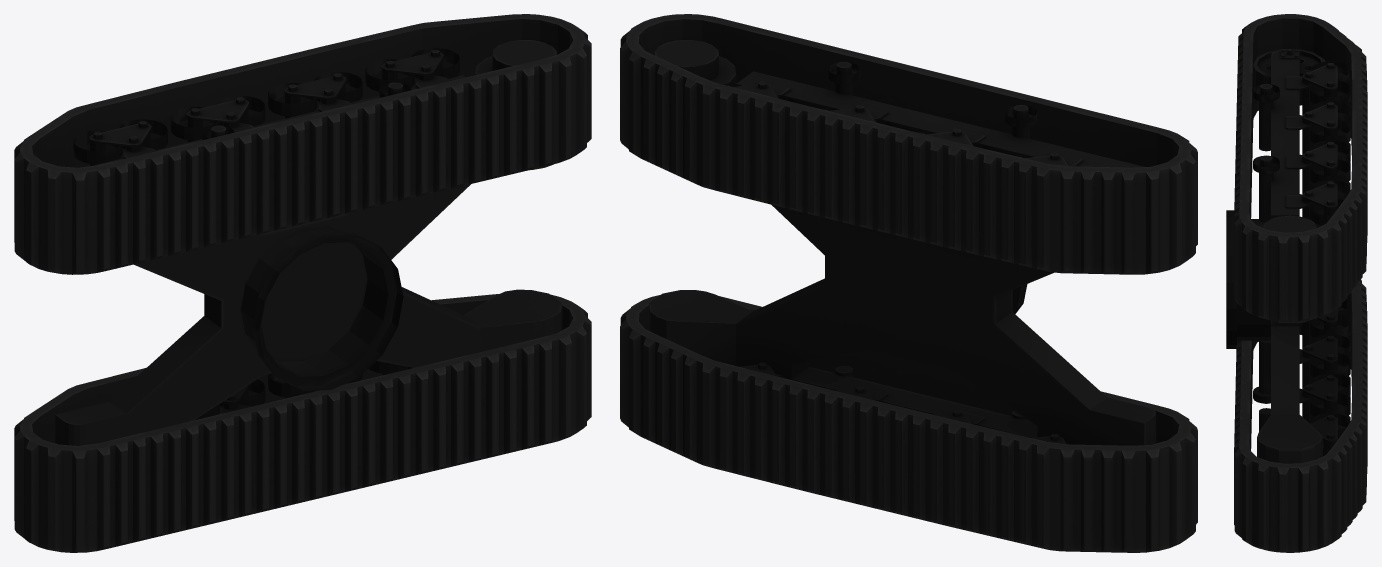
The model's file is mst110cr-crawler.dae.
The picture shows the model from 3 angles, left to right: view 1: azimuth 30°, elevation 25°; view 2: azimuth 150°, elevation 25°; view 3: azimuth 270°, elevation 25°; orthographic projection. The views are drawn at different scales.
Parts seen in each view (by area): view 1: node; view 2: node; view 3: node.
Boxes of the visible parts, x1=… form: node: x1=14, y1=14, x2=591, y2=552; node: x1=620, y1=14, x2=1197, y2=552; node: x1=1226, y1=14, x2=1367, y2=552.
Bounding box in the file's own units: 4.6 × 2.98 × 1.21.
2 materials, 2 textured.
